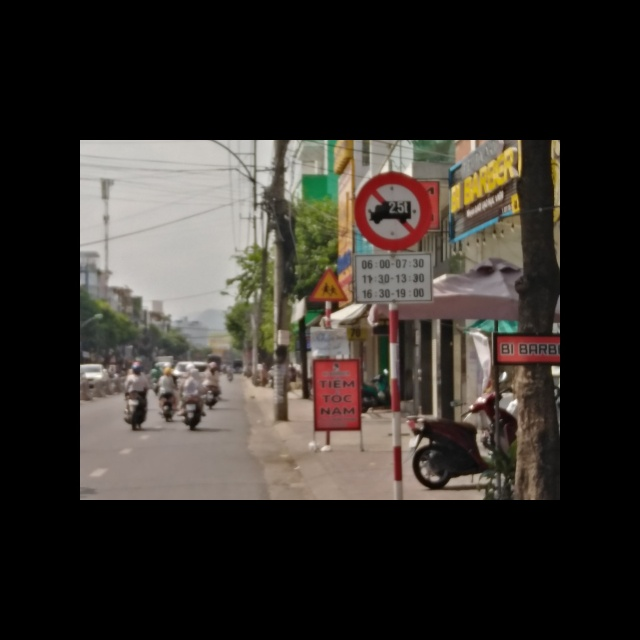Cấm xe tải: (354, 171, 434, 251)
Trẻ em ngang qua: (307, 268, 347, 305)
